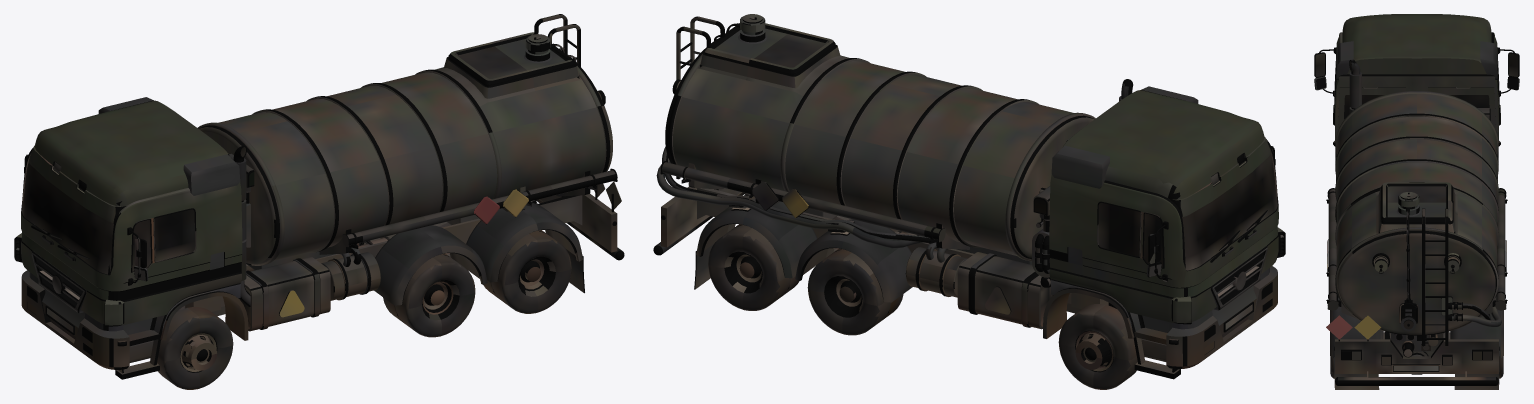
Rendered from source-tanker.glb.
The picture shows the model from 3 angles, left to right: view 1: azimuth 30°, elevation 25°; view 2: azimuth 150°, elevation 25°; view 3: azimuth 270°, elevation 25°; orthographic projection. The views are drawn at different scales.
Parts seen in each view (by area): view 1: source-tanker; view 2: source-tanker; view 3: source-tanker.
Part boxes in pixels (x1=…): source-tanker: x1=14, y1=14, x2=624, y2=389; source-tanker: x1=653, y1=14, x2=1285, y2=389; source-tanker: x1=1314, y1=14, x2=1519, y2=389.
Size of the model in its own units: 8.6 by 3.63 by 3.38.
1 material, 1 textured.
